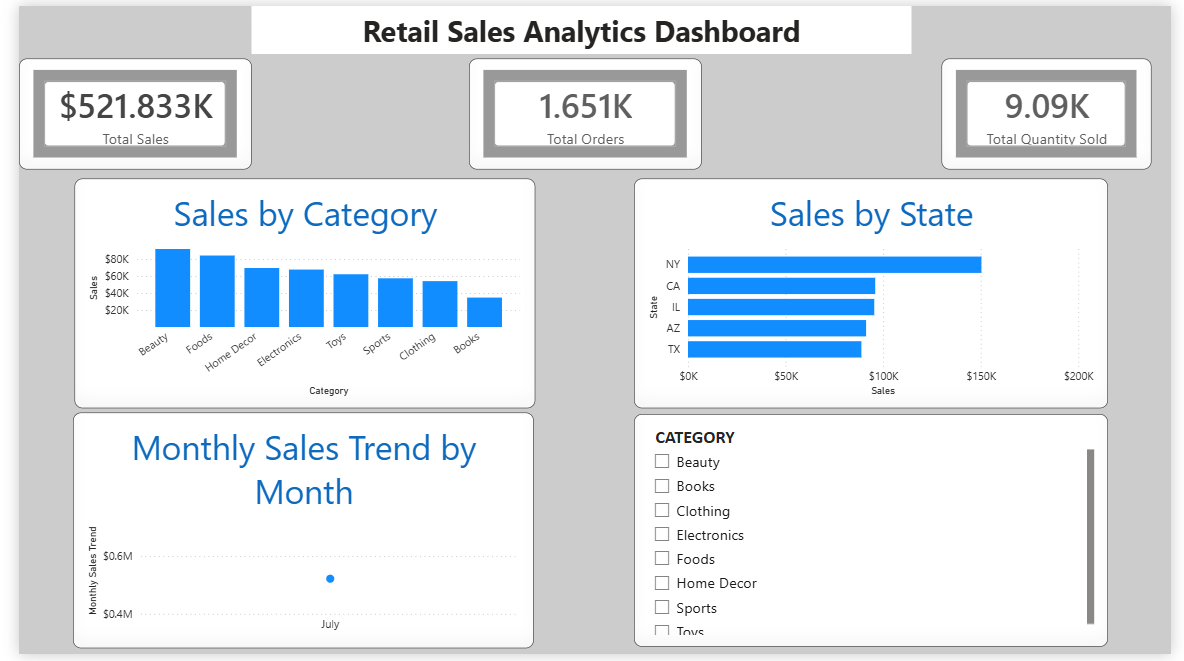

The dashboard page shown, as its layout file describes it:
{"tool":"powerbi","page":{"name":"Page 1","canvas":[1280,720],"ordinal":0},"visuals":[{"type":"cardVisual","fields":{"Data":["Sum(FACT_SALES.SALES_AMOUNT)"]},"box":[0,58.3,258.3,123.3],"z":0},{"type":"clusteredColumnChart","fields":{"Category":["DIM_PRODUCTS.CATEGORY"],"Y":["Sum(FACT_SALES.SALES_AMOUNT)"]},"box":[61.7,191.7,511.7,255],"z":1000},{"type":"lineChart","fields":{"Category":["FACT_SALES.ORDERDATE.Variation.Date Hierarchy.Month"],"Y":["Sum(FACT_SALES.SALES_AMOUNT)"]},"box":[60,451.7,511.7,261.7],"z":1001},{"type":"clusteredBarChart","fields":{"Category":["DIM_CUSTOMERS.STATE"],"Y":["Sum(FACT_SALES.SALES_AMOUNT)"]},"box":[683.3,191.7,526.7,255],"z":1002},{"type":"slicer","fields":{"Values":["DIM_PRODUCTS.CATEGORY"]},"box":[683.3,453.3,526.7,258.3],"z":1003},{"type":"cardVisual","fields":{"Data":["Sum(FACT_SALES.TOTAL_QUANTITY)"]},"box":[1025,58.3,233.3,123.3],"z":1004},{"type":"cardVisual","fields":{"Data":["CountNonNull(FACT_SALES.ORDERID)"]},"box":[500,58.3,258.3,123.3],"z":1005},{"type":"textbox","box":[258.3,0,733.3,53.3],"z":1006}]}

Visuals, with their boxes in screenshot pixels (x1, y1, x2, y2), scaled from the page's 1280x720 canvas onto the 1184x661 screenshot:
cardVisual - Sum(FACT_SALES.SALES_AMOUNT): bbox(0, 54, 239, 167)
clusteredColumnChart - DIM_PRODUCTS.CATEGORY x Sum(FACT_SALES.SALES_AMOUNT): bbox(57, 176, 530, 410)
lineChart - FACT_SALES.ORDERDATE.Variation.Date Hierarchy.Month x Sum(FACT_SALES.SALES_AMOUNT): bbox(56, 415, 529, 655)
clusteredBarChart - DIM_CUSTOMERS.STATE x Sum(FACT_SALES.SALES_AMOUNT): bbox(632, 176, 1119, 410)
slicer - DIM_PRODUCTS.CATEGORY: bbox(632, 416, 1119, 653)
cardVisual - Sum(FACT_SALES.TOTAL_QUANTITY): bbox(948, 54, 1164, 167)
cardVisual - CountNonNull(FACT_SALES.ORDERID): bbox(462, 54, 701, 167)
textbox: bbox(239, 0, 917, 49)
